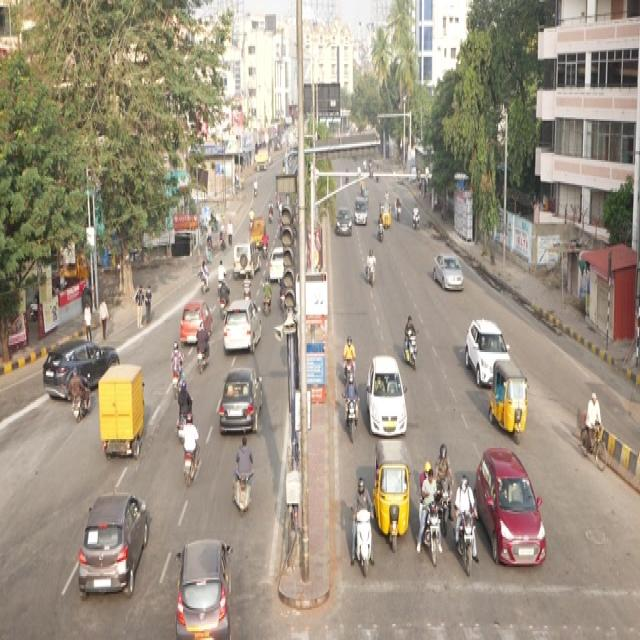Vehicles: (470, 434, 555, 600), (82, 466, 150, 602), (177, 530, 239, 640), (92, 363, 155, 470), (46, 317, 122, 403), (466, 318, 529, 418), (212, 276, 268, 384), (487, 354, 540, 456), (372, 435, 412, 559), (214, 360, 262, 442), (422, 236, 469, 310), (170, 286, 222, 344), (265, 243, 303, 304), (232, 239, 267, 299), (460, 511, 483, 579), (352, 516, 378, 576), (269, 247, 299, 296), (434, 482, 458, 536), (244, 219, 269, 260), (335, 202, 355, 250), (193, 348, 216, 388), (426, 502, 439, 569), (175, 418, 194, 458), (375, 198, 394, 234), (406, 334, 422, 374), (352, 192, 368, 229), (346, 403, 359, 443), (261, 289, 276, 322), (173, 366, 183, 410), (182, 456, 197, 483), (216, 294, 232, 317), (412, 212, 426, 234), (365, 264, 379, 282), (343, 359, 354, 381), (393, 204, 400, 224)
